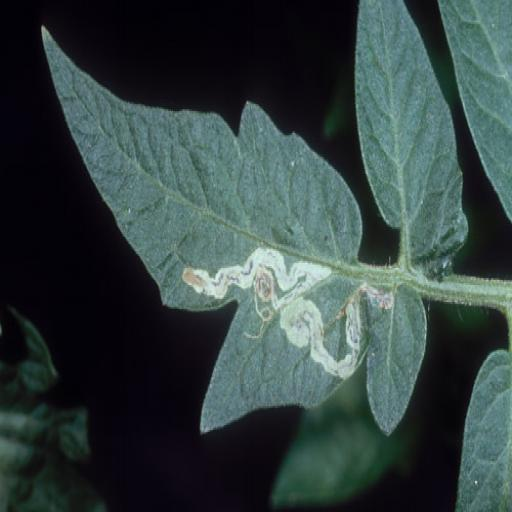Healthy: (355, 0, 470, 273)
Leaf_Miner: (42, 26, 428, 432)
